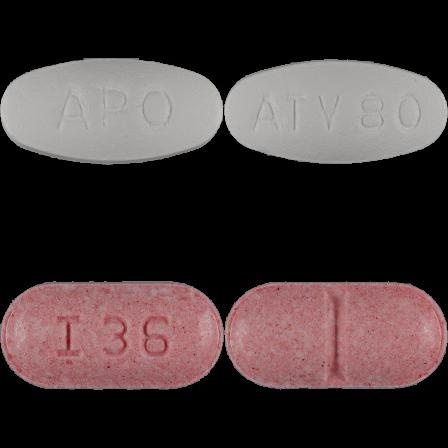63187-656: (0, 0, 224, 224)
